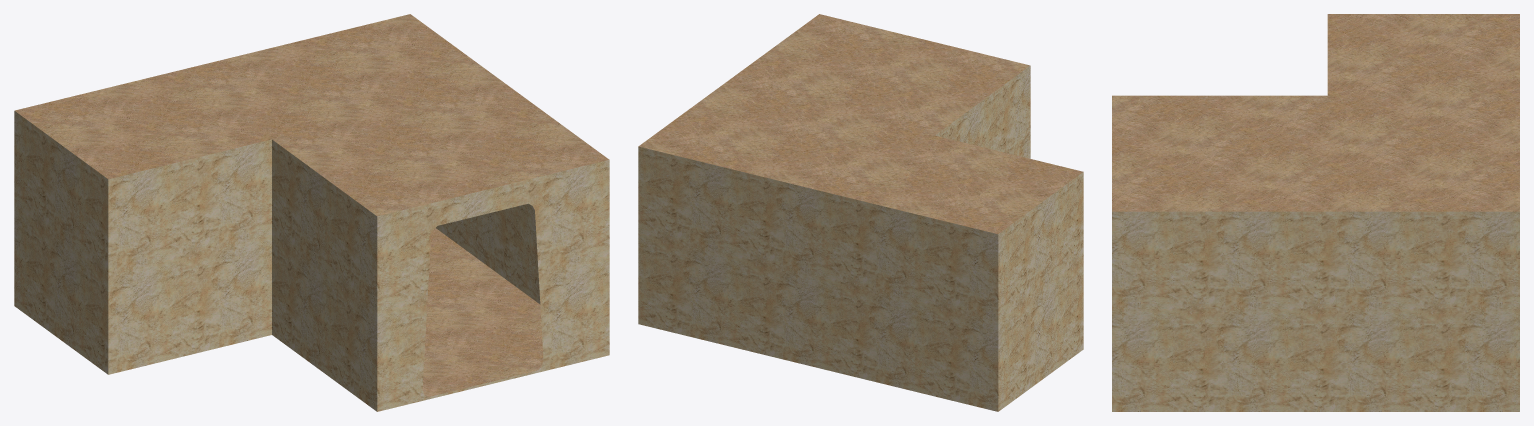
File: thm_tato_imprv_building_s05_r1_foyer_mesh_l0.fbx
3 renders of one model, left to right at view 1: azimuth 30°, elevation 25°; view 2: azimuth 150°, elevation 25°; view 3: azimuth 270°, elevation 25°, orthographic. The views are drawn at different scales.
Parts seen in each view (by area): view 1: mesh_node; view 2: mesh_node; view 3: mesh_node.
Boxes of the visible parts, left/top/right/bottom form: mesh_node: left=14, top=14, right=609, bottom=411; mesh_node: left=638, top=14, right=1083, bottom=411; mesh_node: left=1112, top=14, right=1519, bottom=411.
Size of the model in its own units: 7.76 by 3.66 by 6.76.
